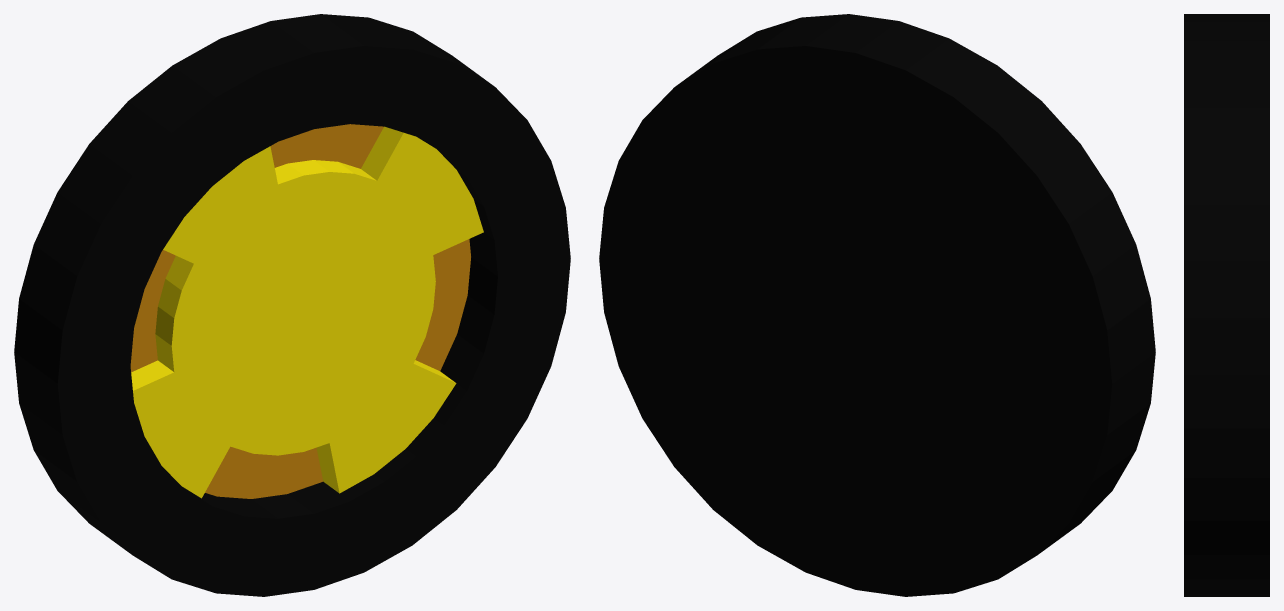
Rendered from teste2.fbx.
3 renders of one model, left to right at view 1: azimuth 30°, elevation 25°; view 2: azimuth 150°, elevation 25°; view 3: azimuth 270°, elevation 25°, orthographic.
Parts seen in each view (by area): view 1: Cylinder; view 2: Cylinder; view 3: Cylinder.
Boxes of the visible parts, left/top/right/bottom form: Cylinder: left=14, top=14, right=570, bottom=596; Cylinder: left=599, top=14, right=1155, bottom=596; Cylinder: left=1184, top=14, right=1269, bottom=596.
Bounding box in the file's own units: 200 × 200 × 29.43.
